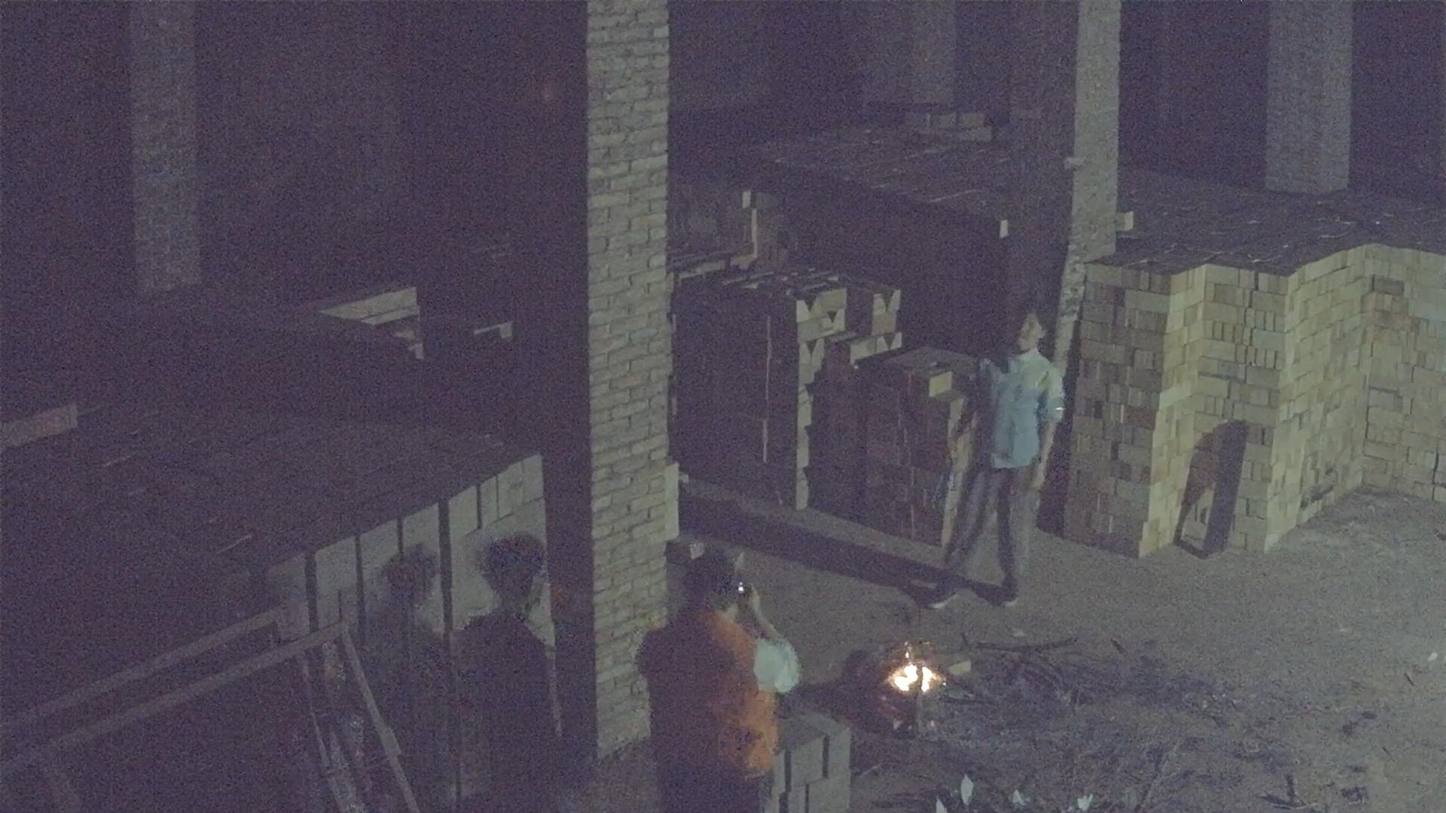fire: (886, 651, 944, 696)
